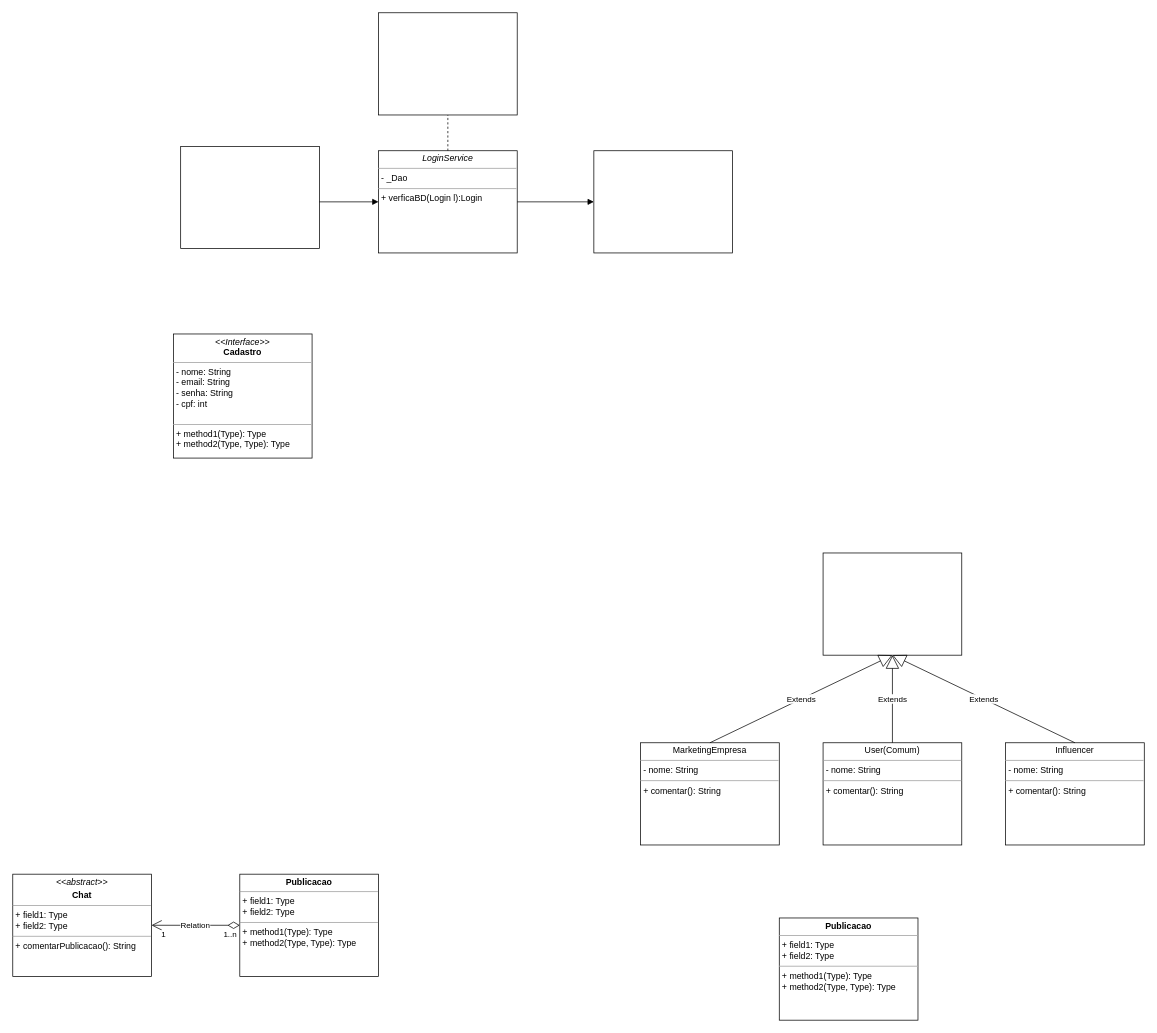
This 1157x1033 diagram has some shape labels left out. The shapes that lost their labels are listed below. From the top down, each one's centre as x and y in pixels, then its label:
At point 447,63: "<<Interface>> IService + verficaBD(Login l):Login".
At point 249,197: "LoginController - _serviceLogin(): + verificaLogin(Login l):Login".
At point 663,201: "Dao + VerificaBD(Login L):Login".
At point 892,603: "<<abstract>> User - nome: String + comentar(): String".
